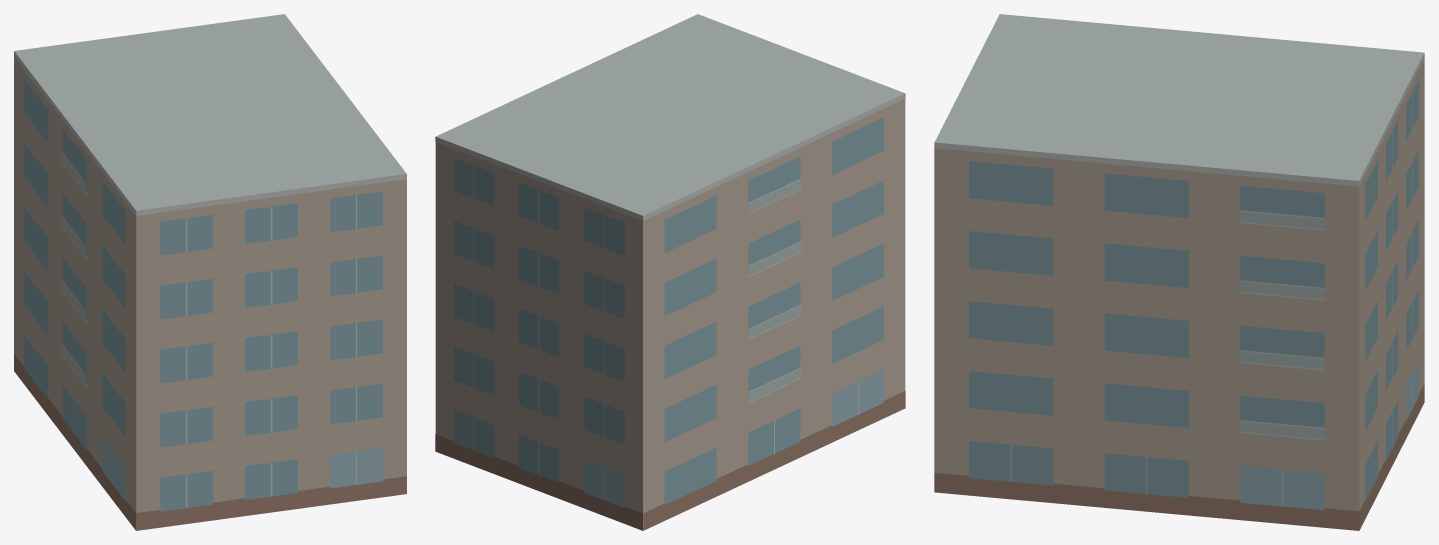
File: survey-upis-32657184.glb
3 renders of one model, left to right at view 1: azimuth 30°, elevation 25°; view 2: azimuth 150°, elevation 25°; view 3: azimuth 270°, elevation 25°, orthographic. The views are drawn at different scales.
Parts seen in each view (by area): view 1: survey-upis-32657184.tmp; view 2: survey-upis-32657184.tmp; view 3: survey-upis-32657184.tmp.
Part boxes in pixels (left/top/right/bottom): survey-upis-32657184.tmp: left=14, top=14, right=406, bottom=530; survey-upis-32657184.tmp: left=435, top=14, right=905, bottom=530; survey-upis-32657184.tmp: left=934, top=14, right=1424, bottom=530.
Bounding box in the file's own units: 15.16 × 14.8 × 18.8.
